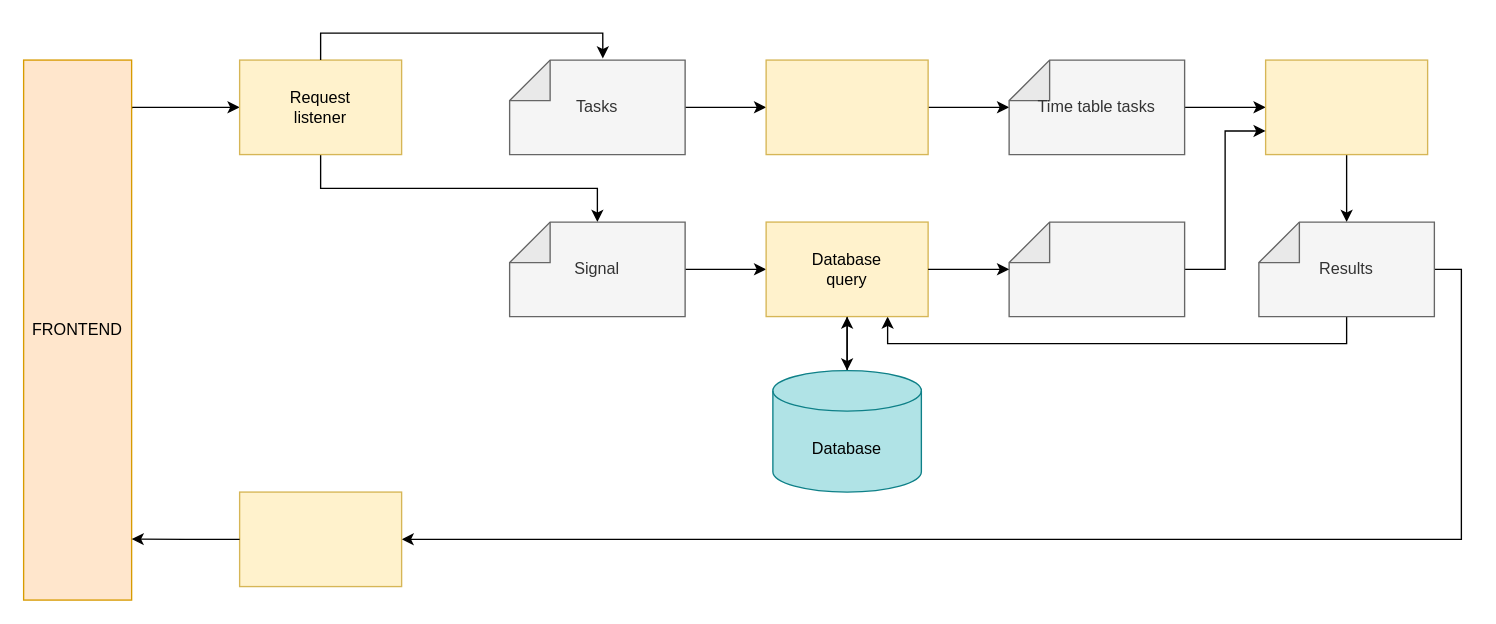
Some shapes in this 1496 by 624 pixel diagram are drawn without their labels. Each missing label, with the centre of its shape:
Converter: the point at 846,107
Instances: the point at 1096,269
Response sender: the point at 320,539
Task distribution: the point at 1346,107
